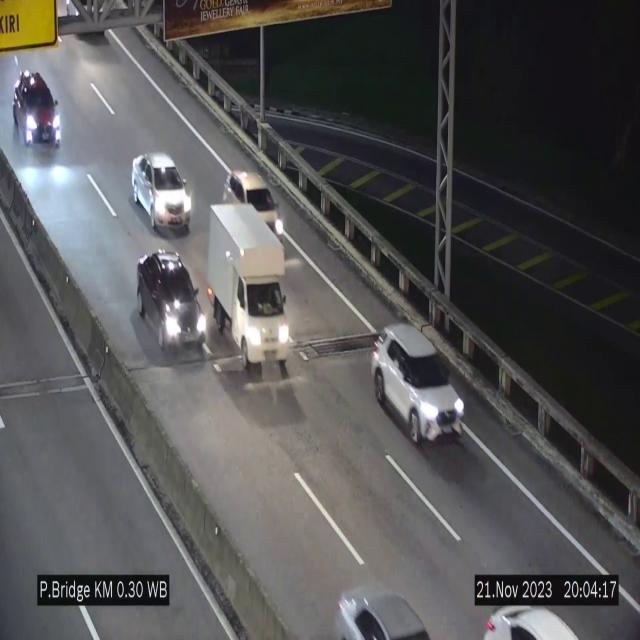Car: (372, 324, 464, 442), (136, 252, 210, 368), (334, 581, 436, 640), (11, 66, 66, 156), (132, 152, 192, 232), (472, 598, 584, 640), (226, 167, 286, 238)
Truck: (208, 204, 288, 373)
